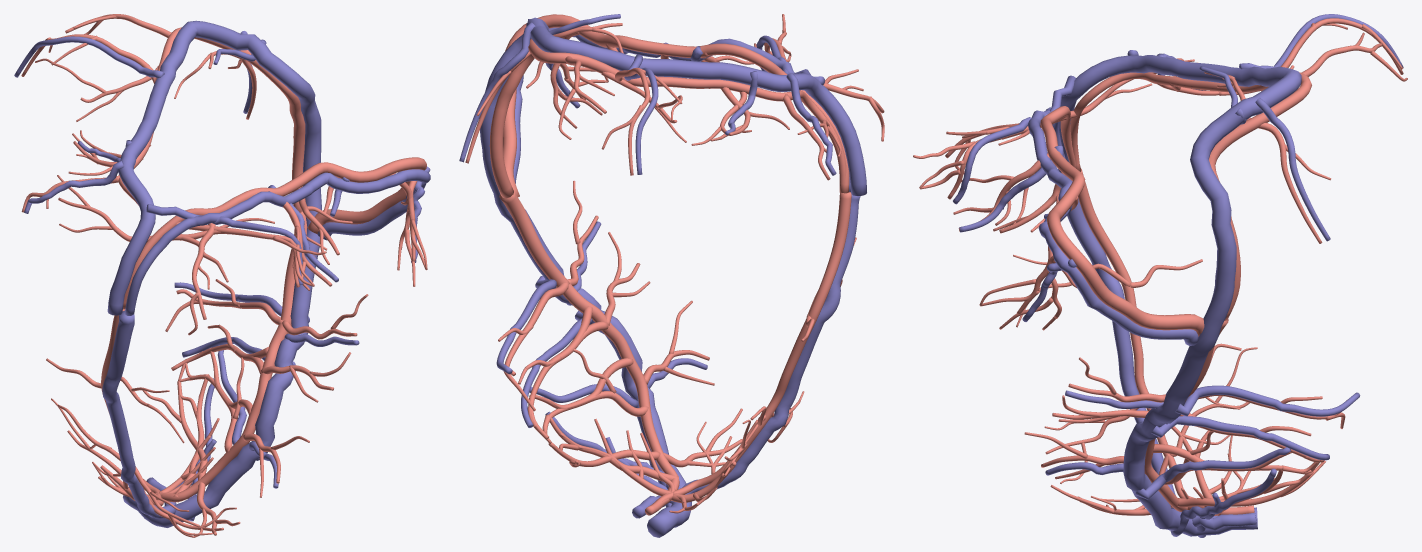
File: vessels_64.glb
3 renders of one model, left to right at view 1: azimuth 30°, elevation 25°; view 2: azimuth 150°, elevation 25°; view 3: azimuth 270°, elevation 25°, orthographic. The views are drawn at different scales.
Visible parts, largest first — view 1: Renderer Node; view 2: Renderer Node; view 3: Renderer Node.
Boxes of the visible parts, x1=… form: Renderer Node: x1=14, y1=14, x2=430, y2=537; Renderer Node: x1=459, y1=14, x2=884, y2=537; Renderer Node: x1=913, y1=14, x2=1407, y2=537.
Bounding box in the file's own units: 97.25 × 121 × 107.
